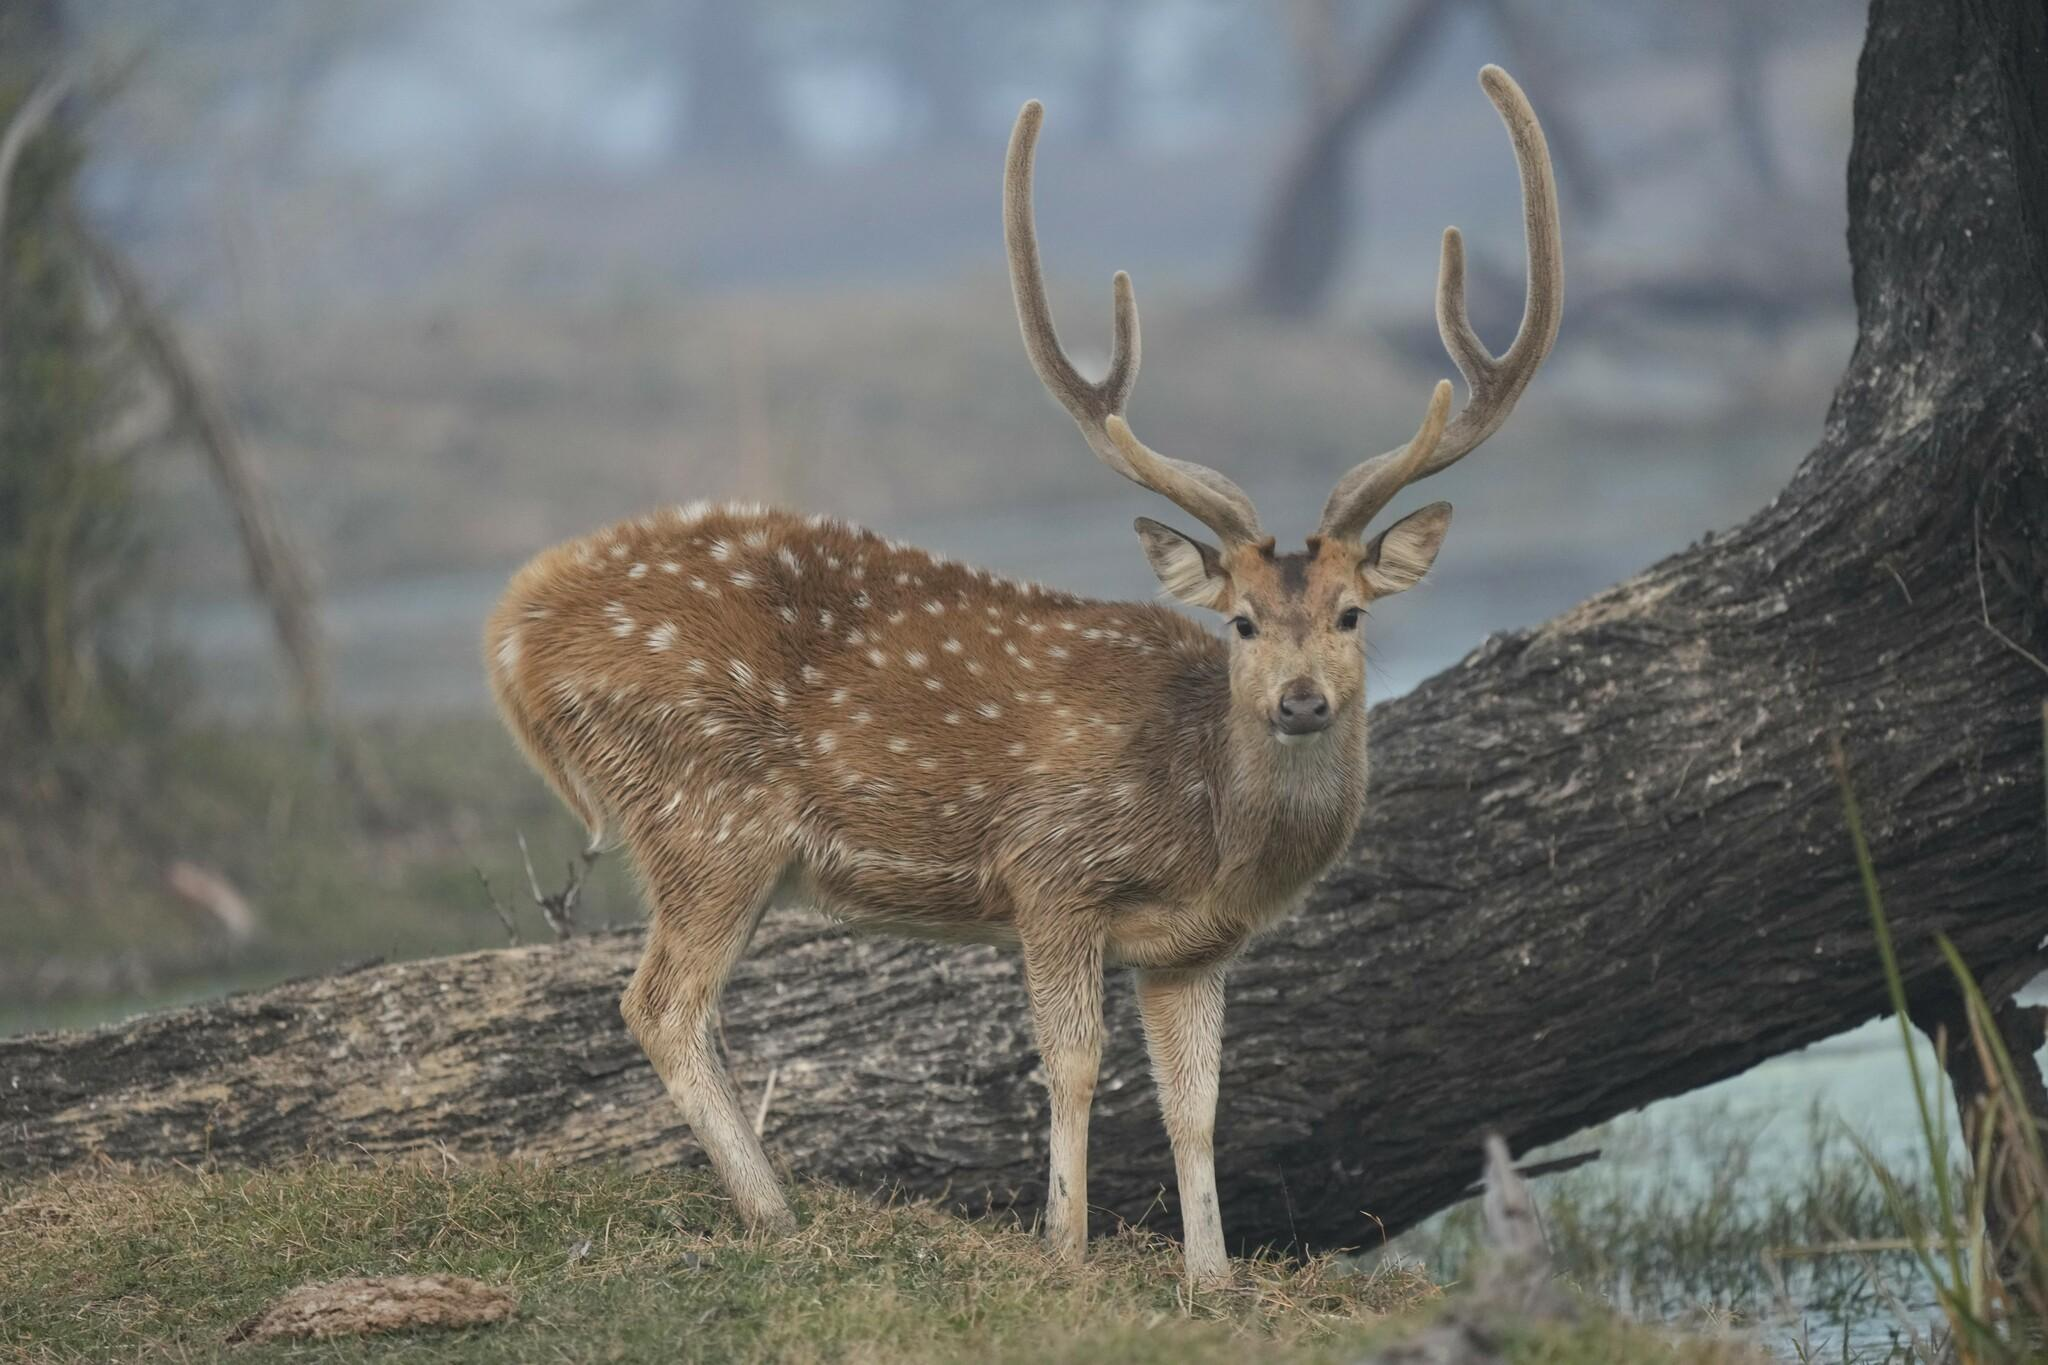Deer: (487, 66, 1561, 1275)
